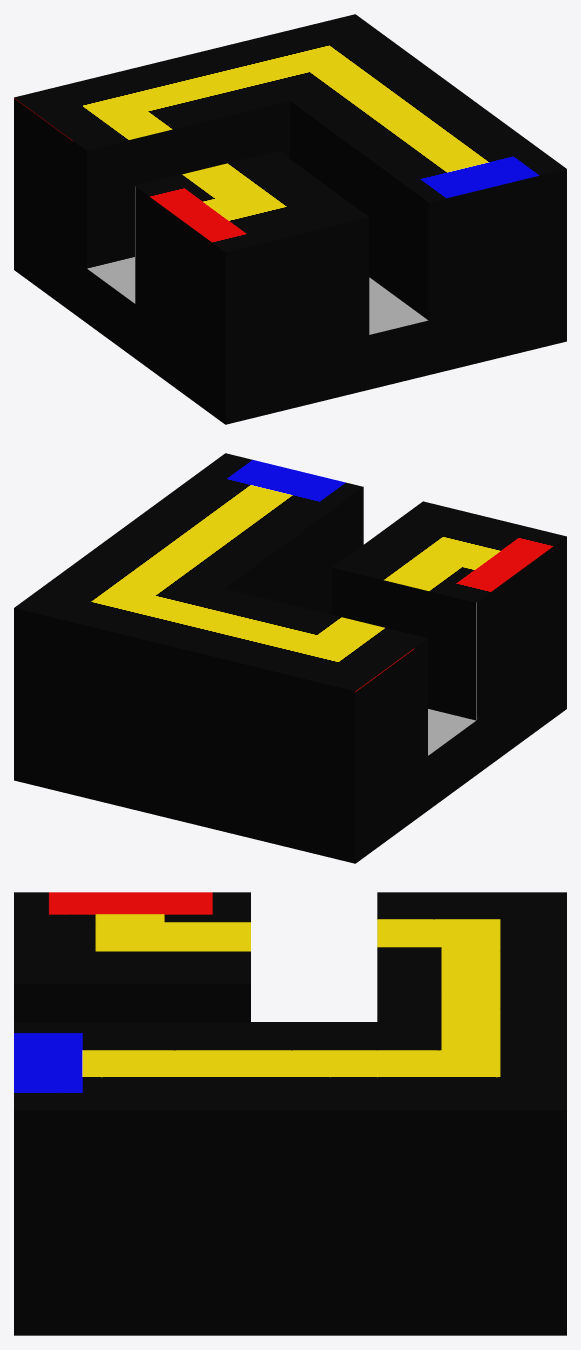
File: Lv2_Pathed.fbx
3 views of the same model, one above another, from view 1: azimuth 30°, elevation 25°; view 2: azimuth 150°, elevation 25°; view 3: azimuth 270°, elevation 25° (orthographic). The views are drawn at different scales.
Visible parts, largest first — view 1: BoxBrush; view 2: BoxBrush; view 3: BoxBrush.
Boxes of the visible parts, x1,y1,x2,y2 form: BoxBrush: (14, 14, 566, 424); BoxBrush: (14, 453, 566, 863); BoxBrush: (14, 892, 566, 1335).
Bounding box in the file's own units: 1305 × 630 × 1400.
Materials: 1 (1 with a texture image).
